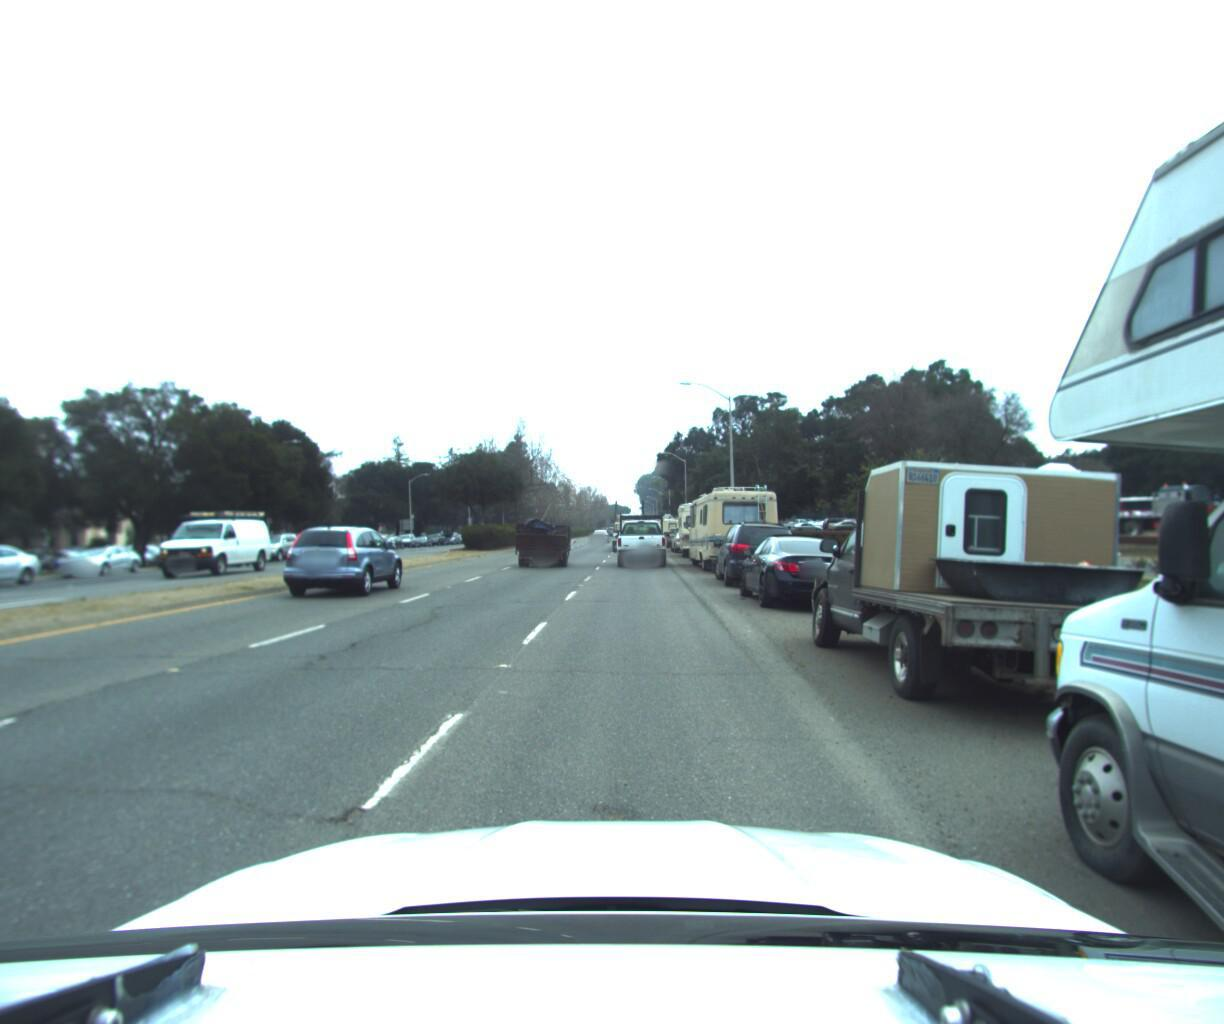car: (788, 428, 1224, 745), (728, 528, 864, 612), (276, 522, 408, 597), (145, 510, 273, 581), (708, 515, 801, 588), (507, 513, 574, 565), (53, 543, 149, 578), (614, 505, 672, 562), (244, 532, 303, 564), (608, 517, 638, 547), (668, 525, 702, 550)
other_vehicle: (681, 480, 783, 571), (675, 493, 728, 553), (655, 510, 685, 541)
truck: (615, 496, 650, 544)
